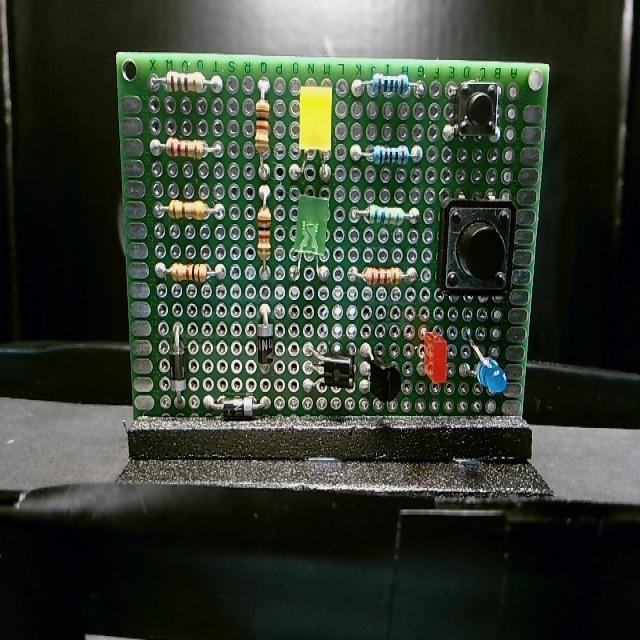diode: (166, 332, 188, 402), (214, 395, 260, 421), (258, 314, 278, 369)
led: (296, 84, 334, 158), (295, 191, 329, 259), (417, 328, 449, 387), (471, 350, 508, 400)
resistor: (252, 86, 272, 166), (159, 134, 214, 158), (160, 68, 210, 94), (164, 258, 214, 284), (367, 141, 414, 167), (163, 198, 213, 222), (364, 201, 406, 229), (255, 203, 273, 264), (364, 73, 414, 94), (360, 266, 406, 288)
switch: (438, 196, 518, 297), (455, 80, 500, 138)
transistor: (316, 346, 357, 391), (367, 356, 404, 400)
